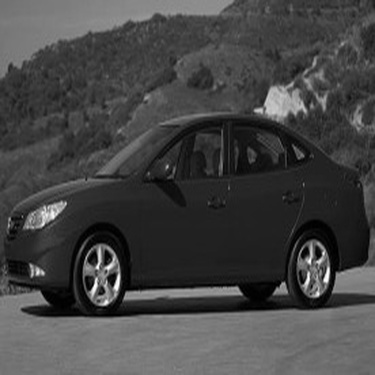car: (3, 104, 369, 317)
